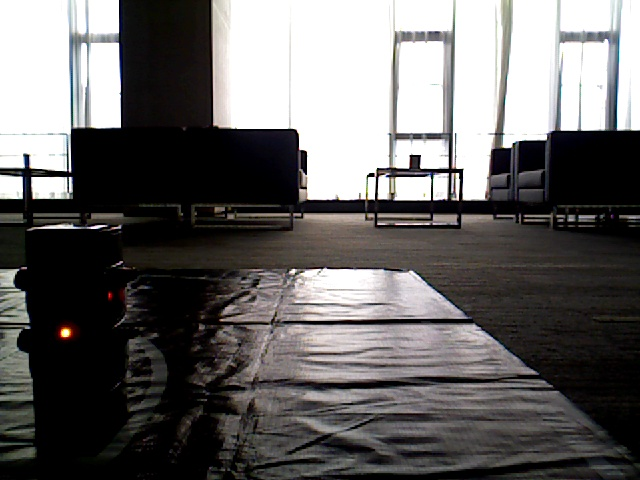yellow: (29, 232, 110, 405)
